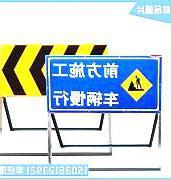sign: (47, 56, 161, 113)
